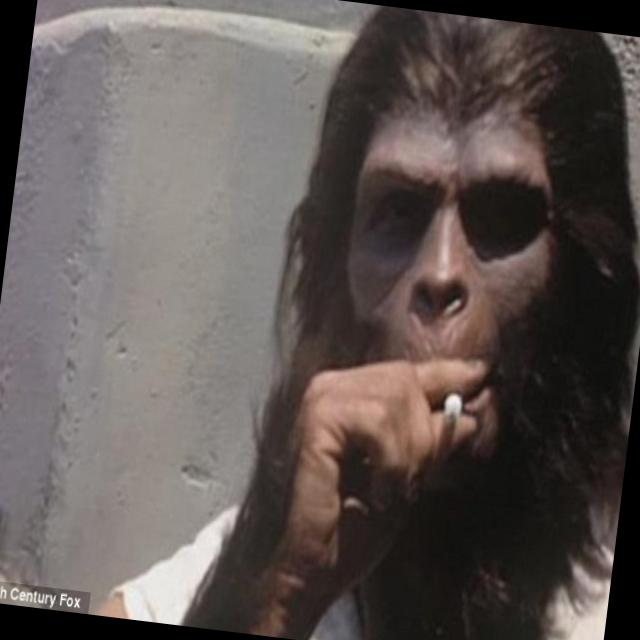cigarette: (442, 390, 464, 426)
